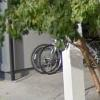Tree: (22, 0, 100, 44)
